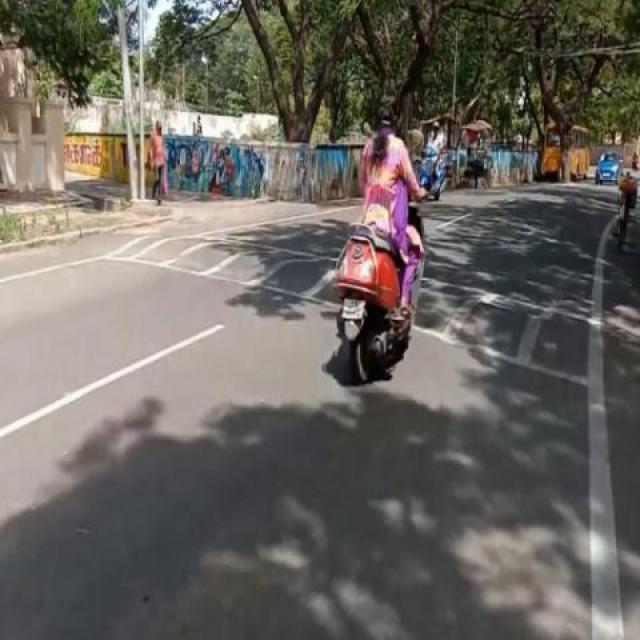Speed Bump: (418, 276, 638, 399), (88, 228, 334, 302)
